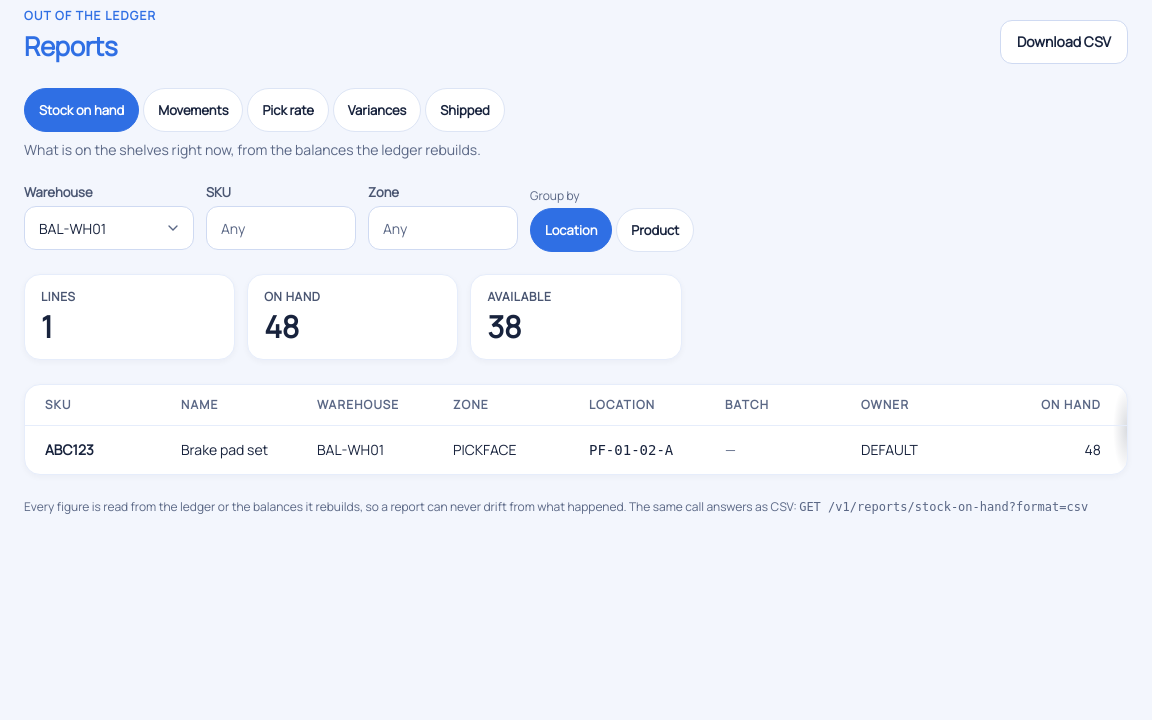
Scenario: Reports › runs movements with the warehouse and date range, and draws a day chart
Click the button "Movements" at (193, 110), box [143, 88, 244, 132]
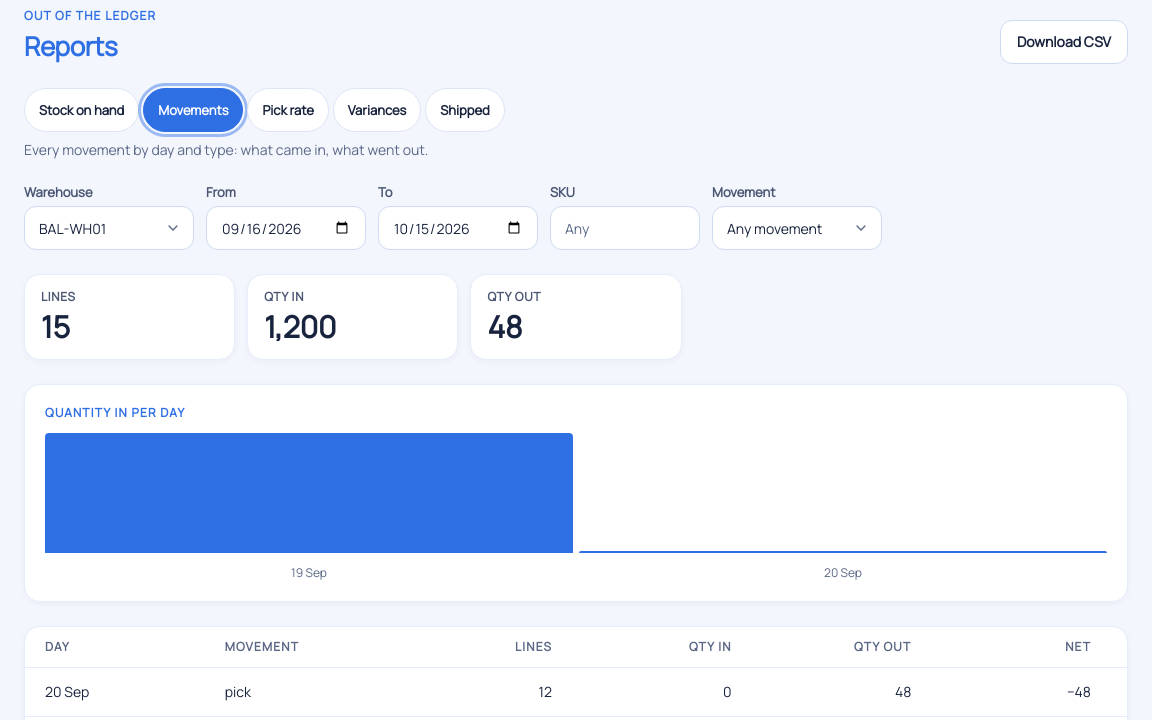
Check: the text "Every movement by day and type: what came in, what went out." is shown, box [24, 140, 428, 159]
Check: the dropdown labelled "Movement" is shown, box [712, 206, 882, 250]
Check: the text labelled "Group by" is gone
